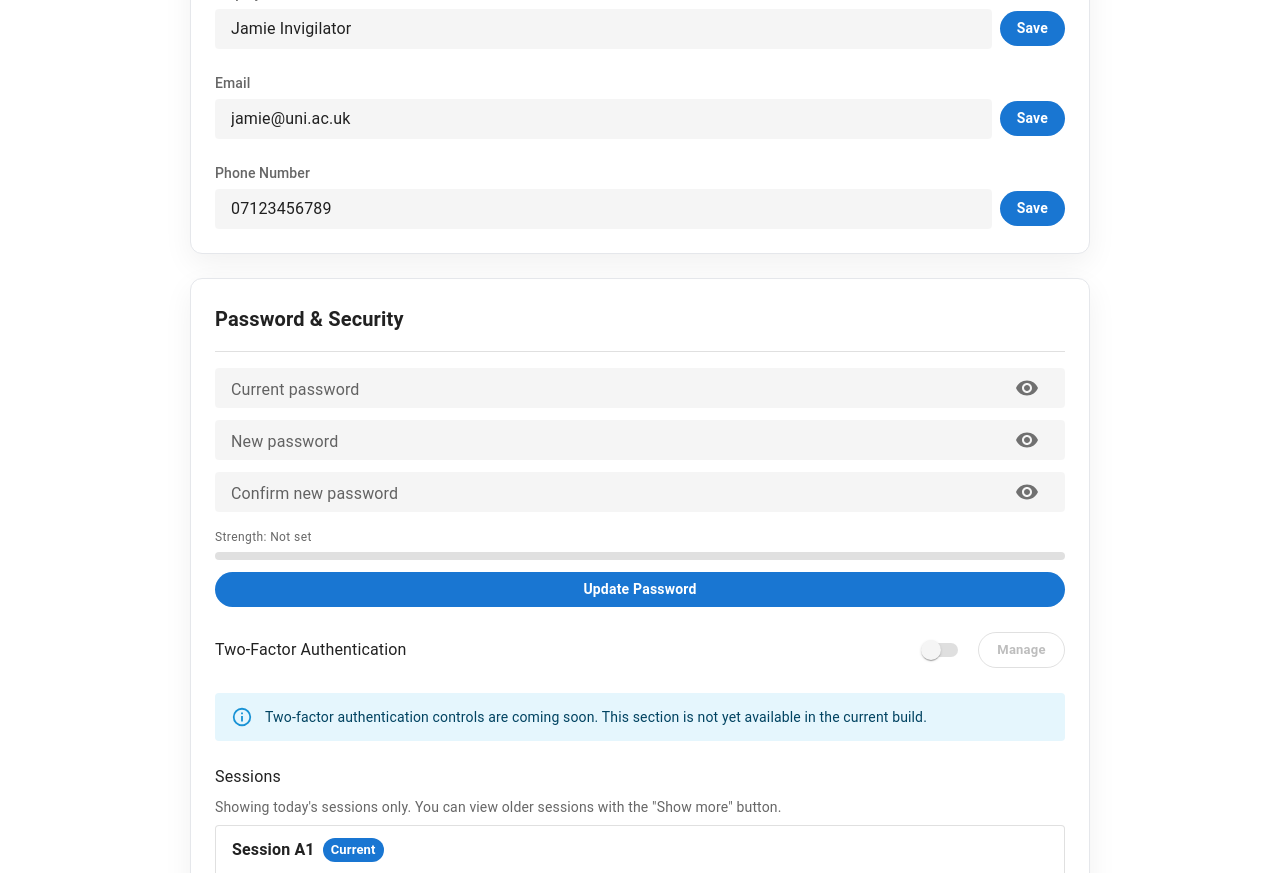
Test: InvigilatorProfile › shows password mismatch message
(page scrolled)
Type "Secret123!" into the password field labelled "New password" at (615, 440), box [231,428,999,451]
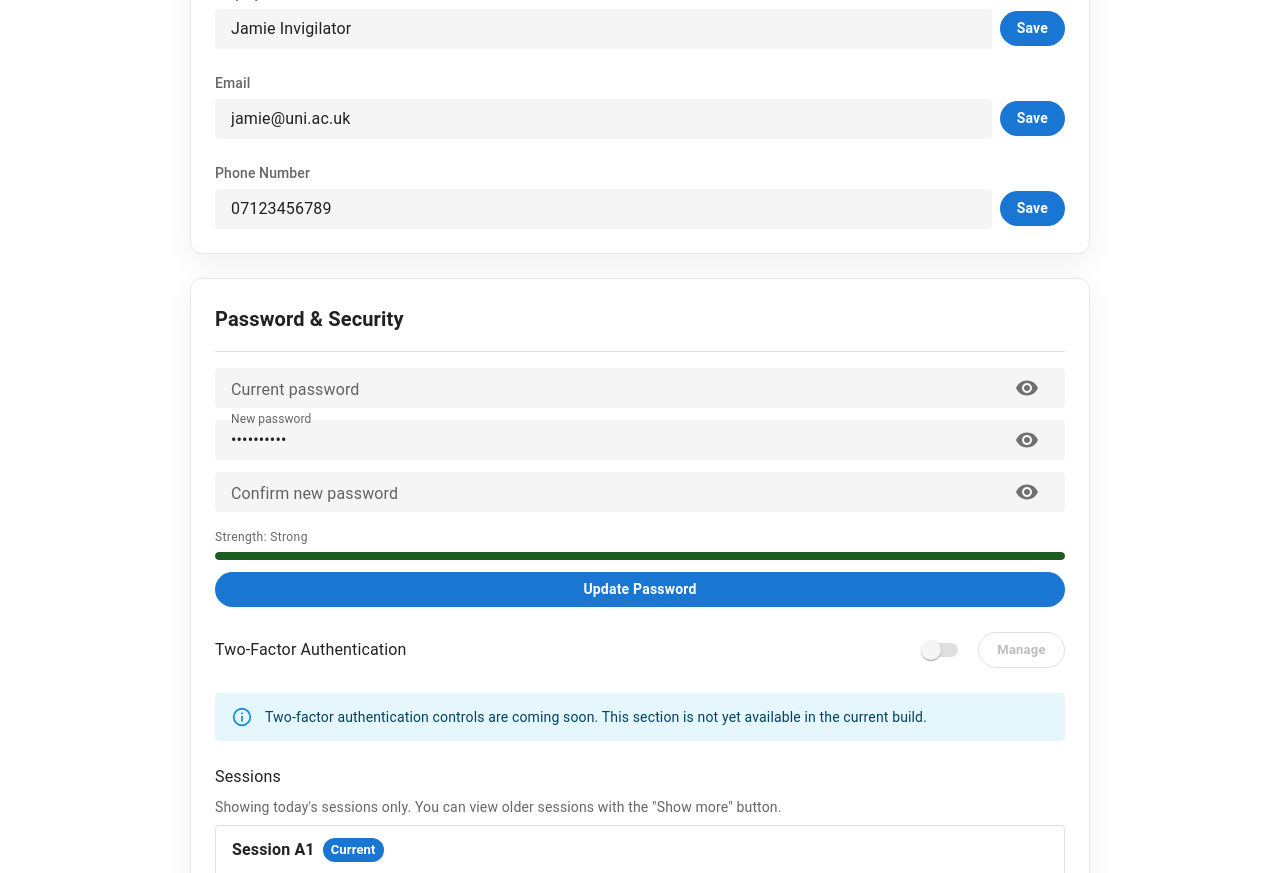
Type "Secret321!" into the password field labelled "Confirm new password" at (615, 492), box [231,480,999,503]
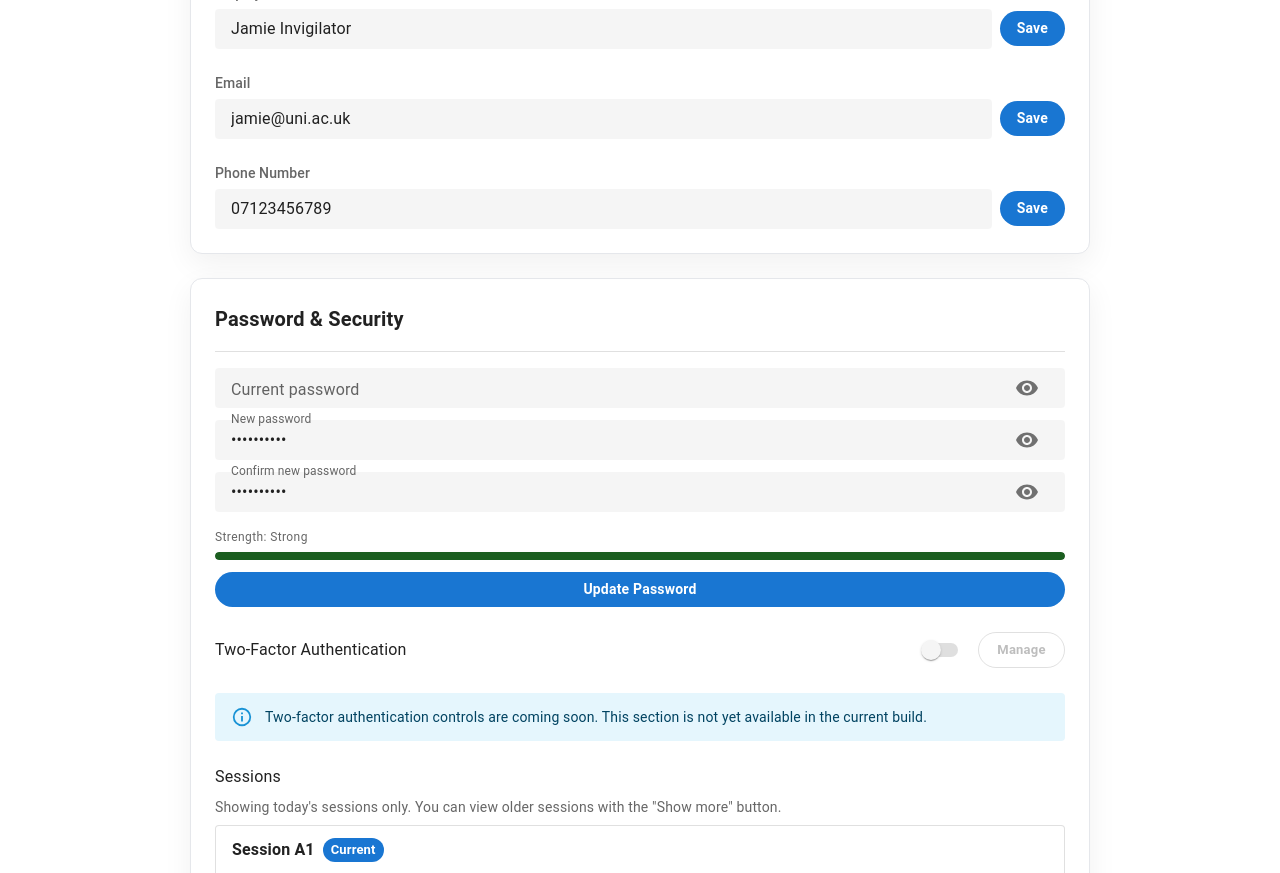
Click the button "Update Password" at (640, 589), box [215,572,1065,607]
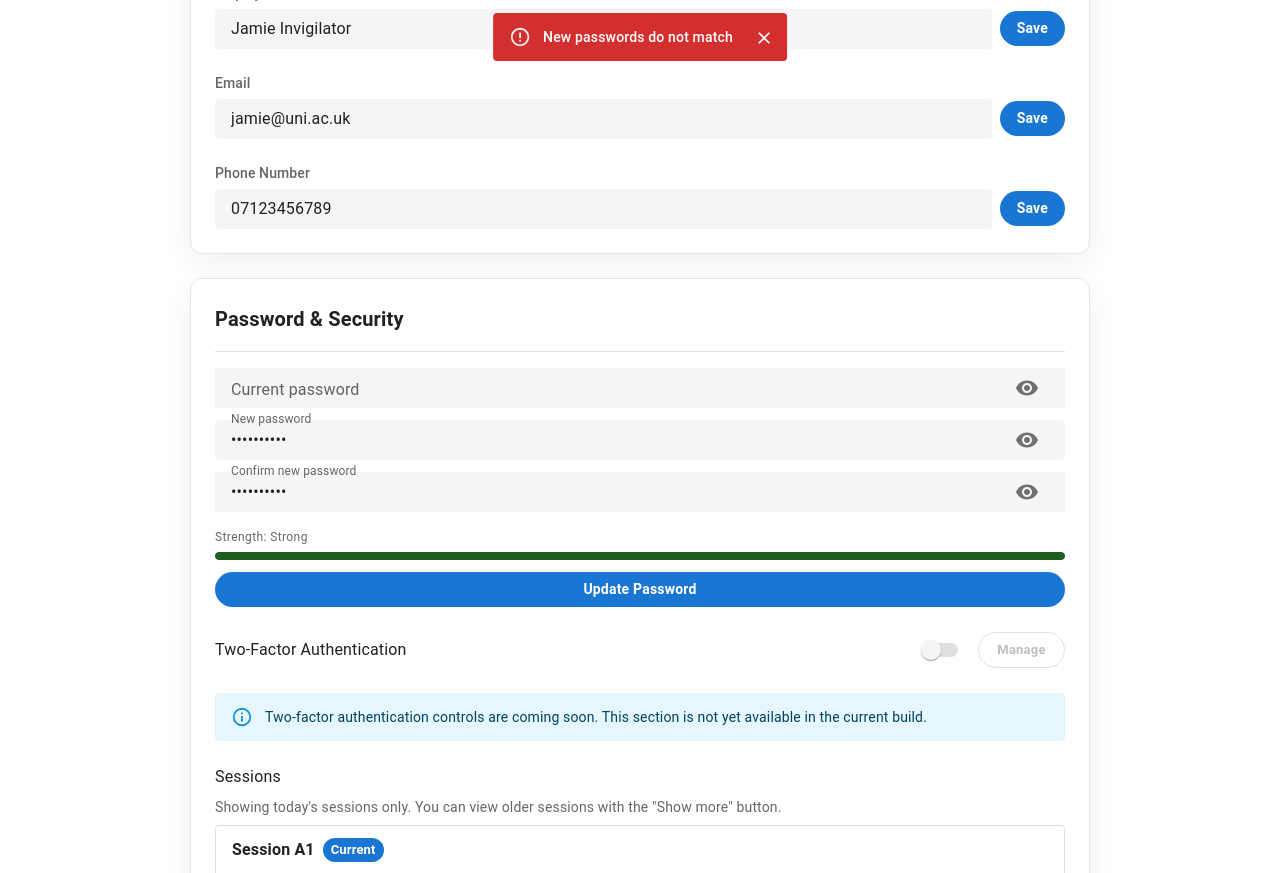
Expected: the text "New passwords do not match" is shown, [543,29,733,45]
